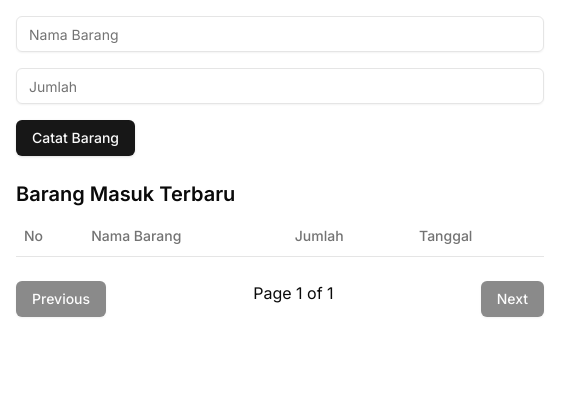
Test case: HomePage › shows error message if quantity is not a number
The width and height of the screenshot is (561, 396).
Step 1. Type "Pulpen" into the field with placeholder "Nama Barang" → (280, 34), box [16,16,544,52]
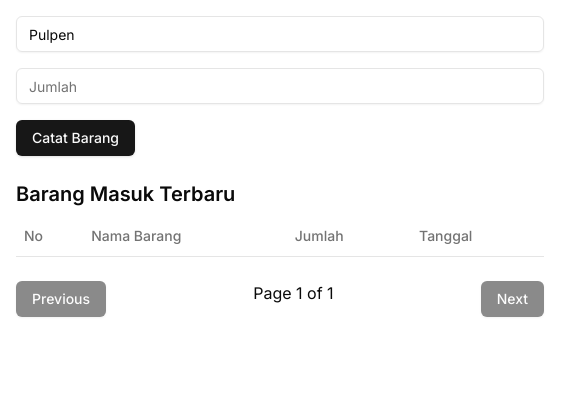
Step 2. Click the button "Catat Barang" → (76, 138), box [16,120,135,156]
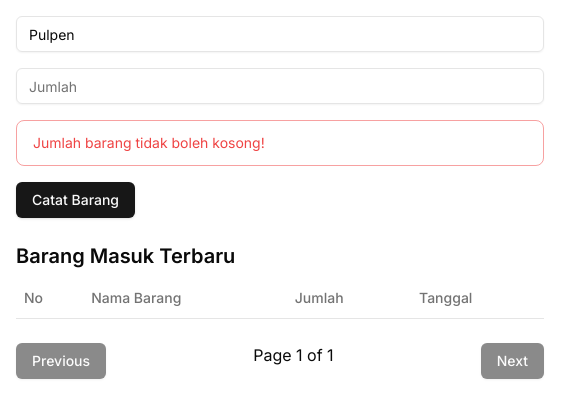
Check: the text "Jumlah barang tidak boleh kosong!" is shown, box [16,120,544,166]
